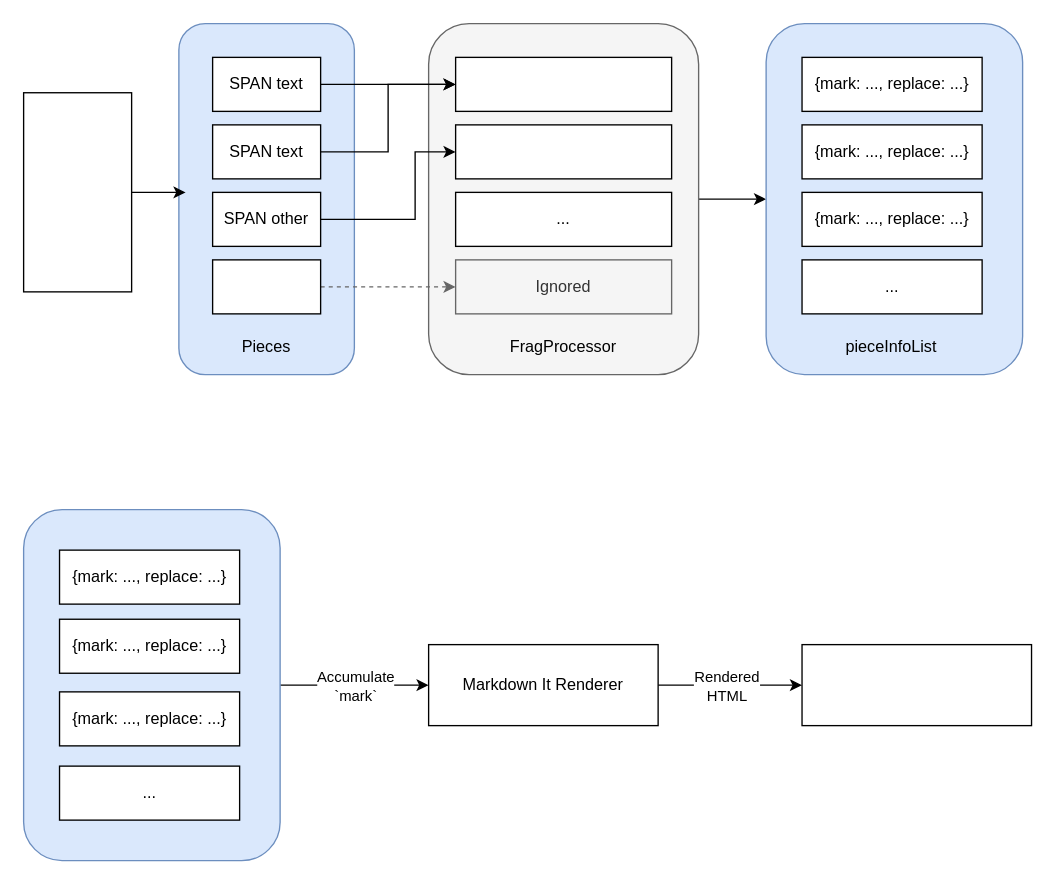
Image size: 1056x884. Some labels were removed from this diagram. The centre of each missing label's shape, as x and y in pixels:
DIV other: point (266, 286)
MsgBox: point (77, 191)
Replacer `pieceInfoList[i].replace()`: point (916, 684)
spanReplaceProcessor: point (563, 151)
textSpanProcessor: point (563, 83)
